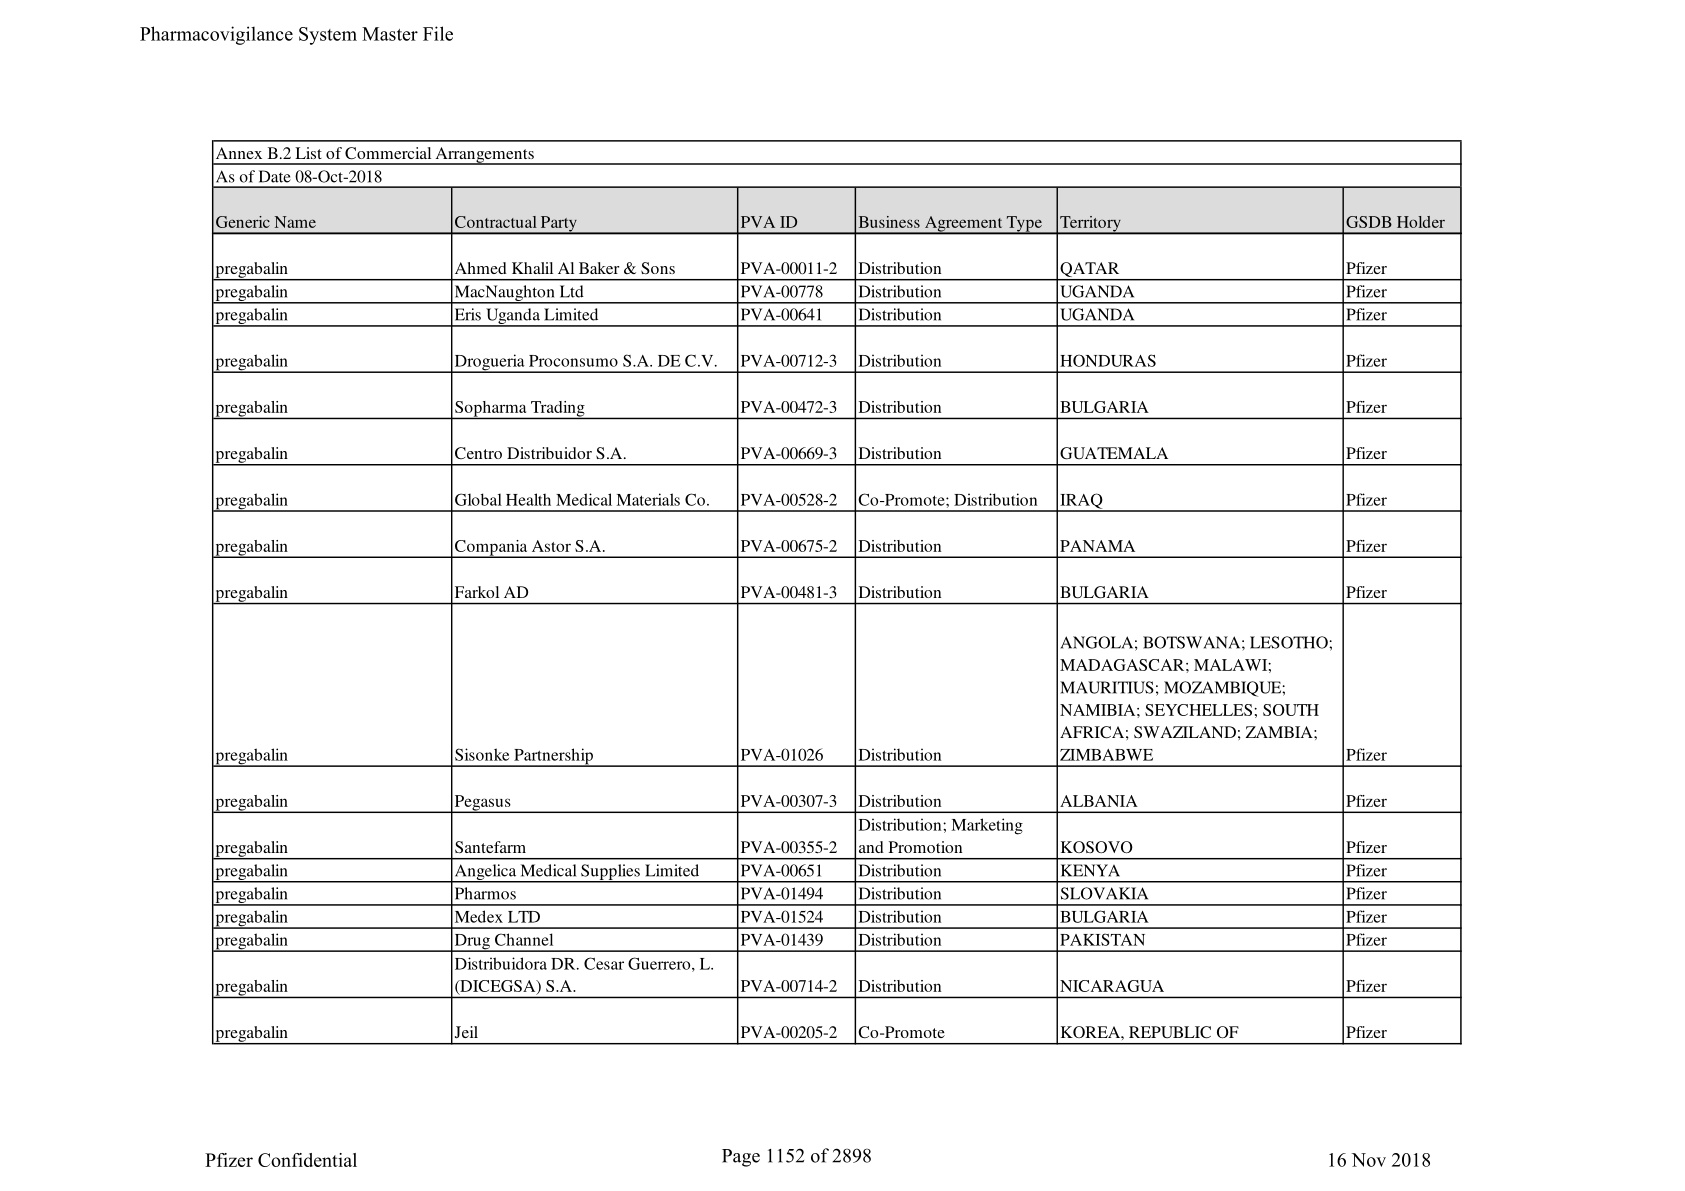merged_cells: (211, 139, 1463, 1045)
